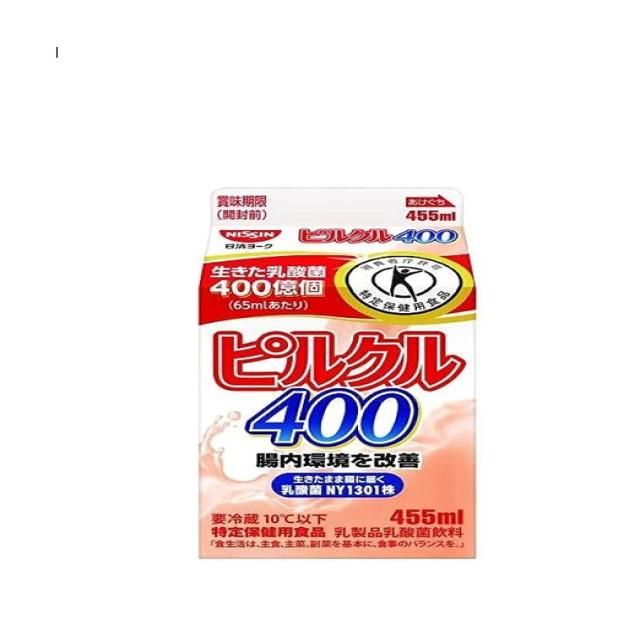Aluminium Foil: (197, 181, 488, 564)
